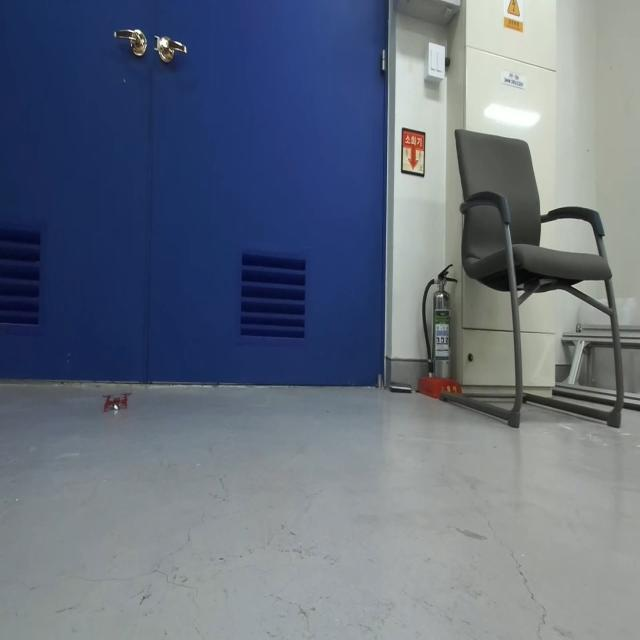crazyflie: (102, 386, 132, 417)
